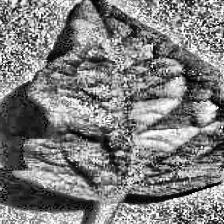leaf mold: (16, 0, 224, 192)
